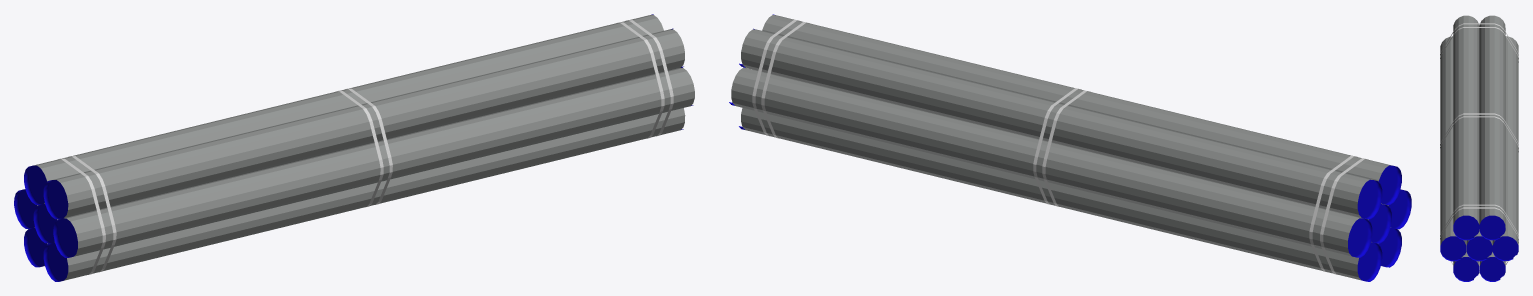
The model's file is tube_okto_blue.dae.
3 renders of one model, left to right at view 1: azimuth 30°, elevation 25°; view 2: azimuth 150°, elevation 25°; view 3: azimuth 270°, elevation 25°, orthographic. The views are drawn at different scales.
Visible parts, largest first — view 1: tube_00; view 2: tube_00; view 3: tube_00.
Part boxes in pixels (x1,y1,x2,y2): tube_00: (14,14,694,281); tube_00: (729,14,1411,281); tube_00: (1440,15,1518,281).
Bounding box in the file's own units: 12.67 × 2.08 × 1.91.
Materials: 3 (1 with a texture image).
